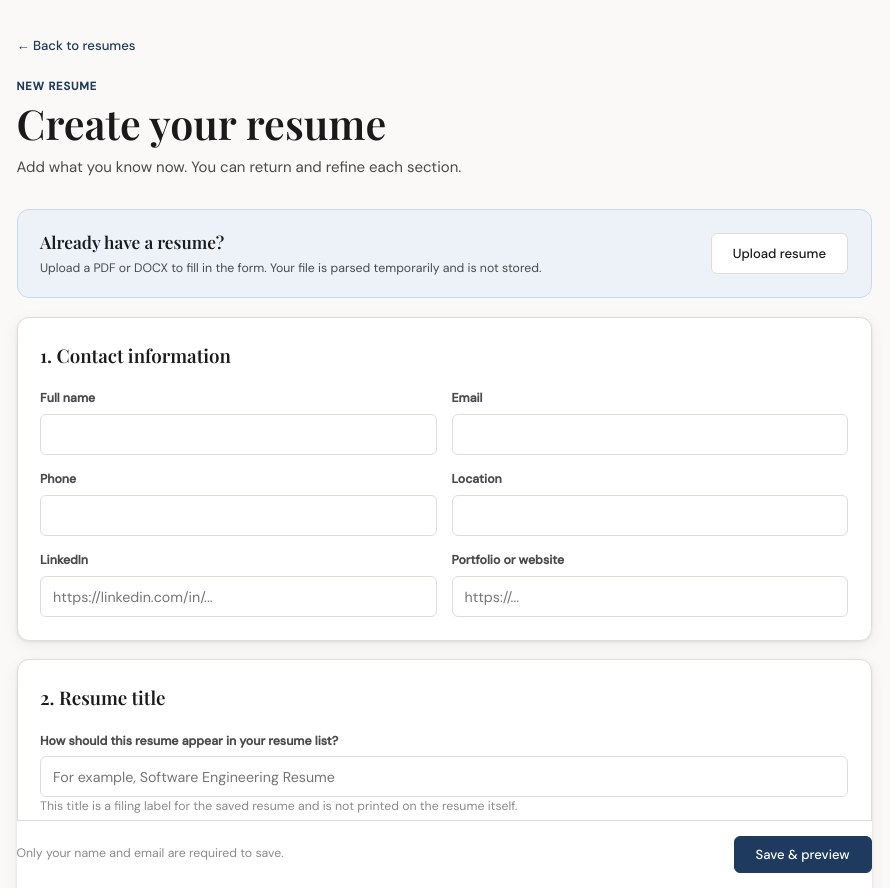
Test: ResumeBuilder › adds another work experience and saves entered details
The width and height of the screenshot is (890, 888).
Type "Jamie Rivera" into the field labelled "Full name" at (238, 435), box [40,414,436,455]
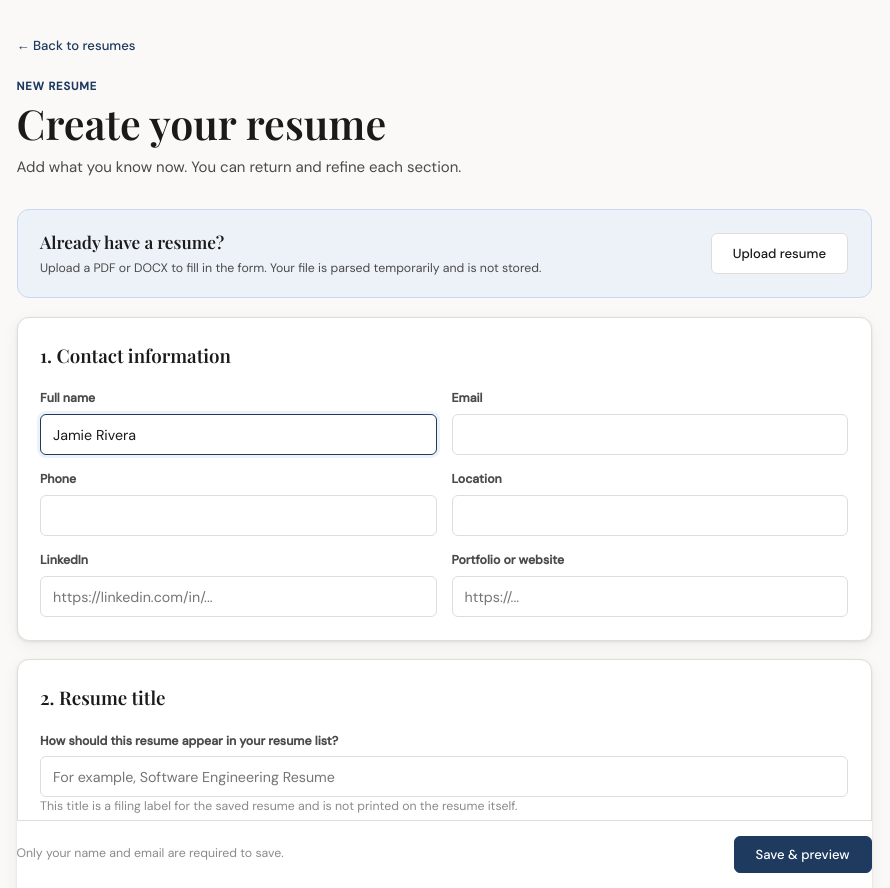
Type "jamie@example.com" into the field labelled "Email" at (650, 435), box [452,414,848,455]
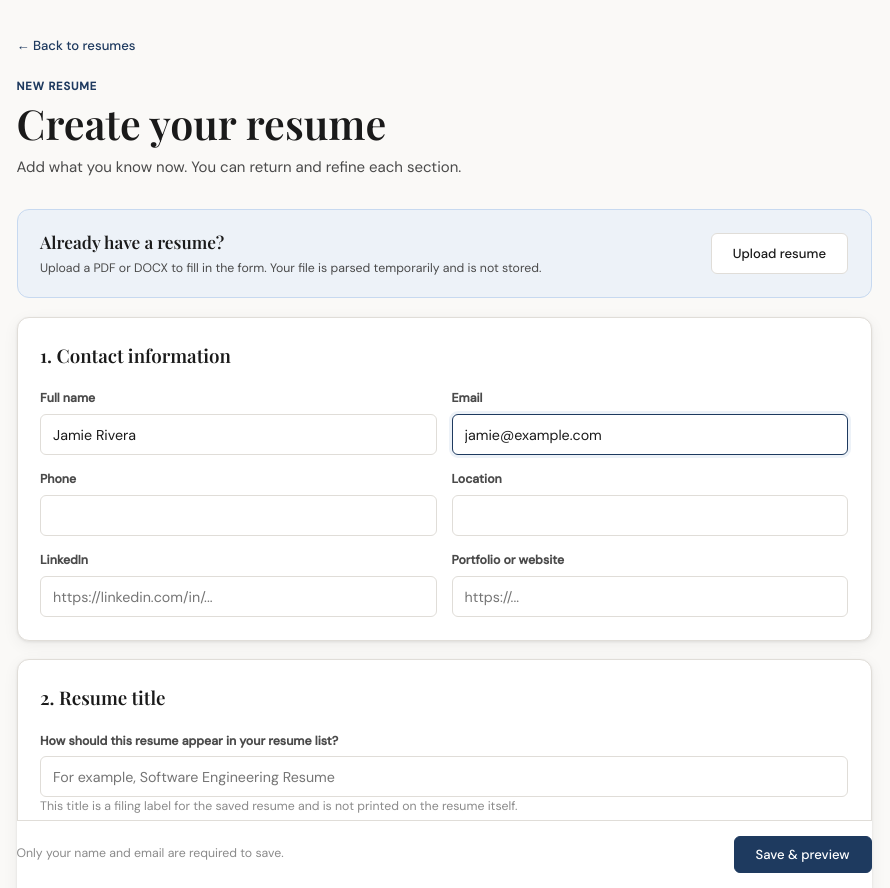
Type "Product Manager" into the field labelled "How should this resume appear in your resume list?" at (444, 777), box [40,756,848,798]
(page scrolled)
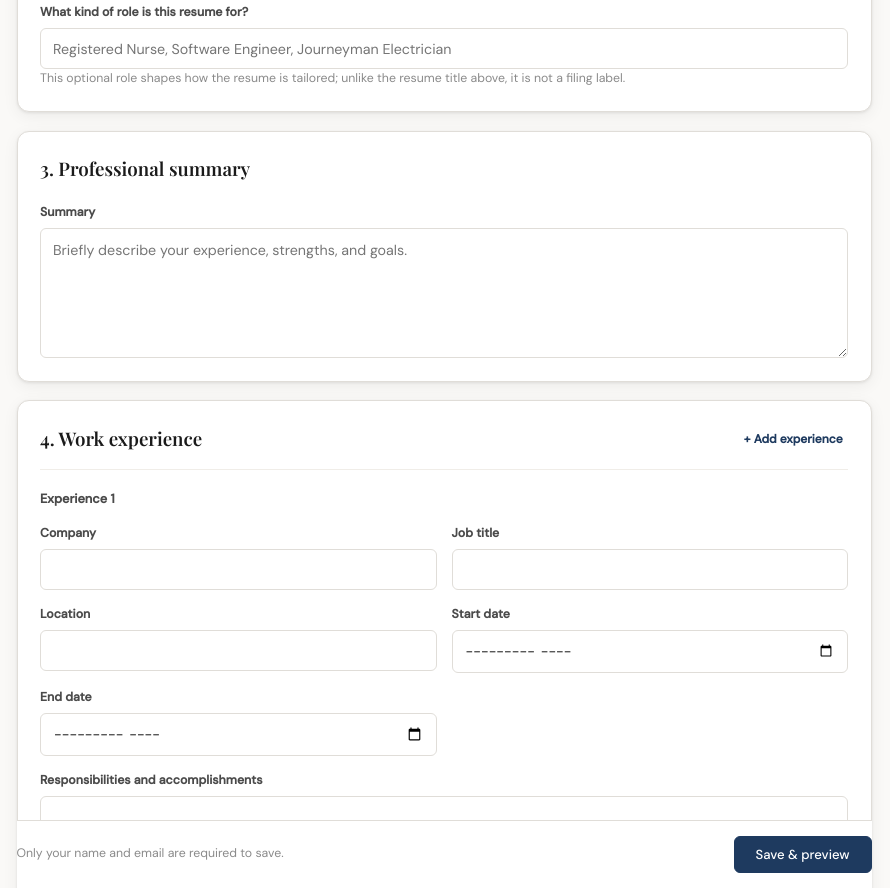
Click the button "+ Add experience" at (793, 439), box [739,426,848,452]
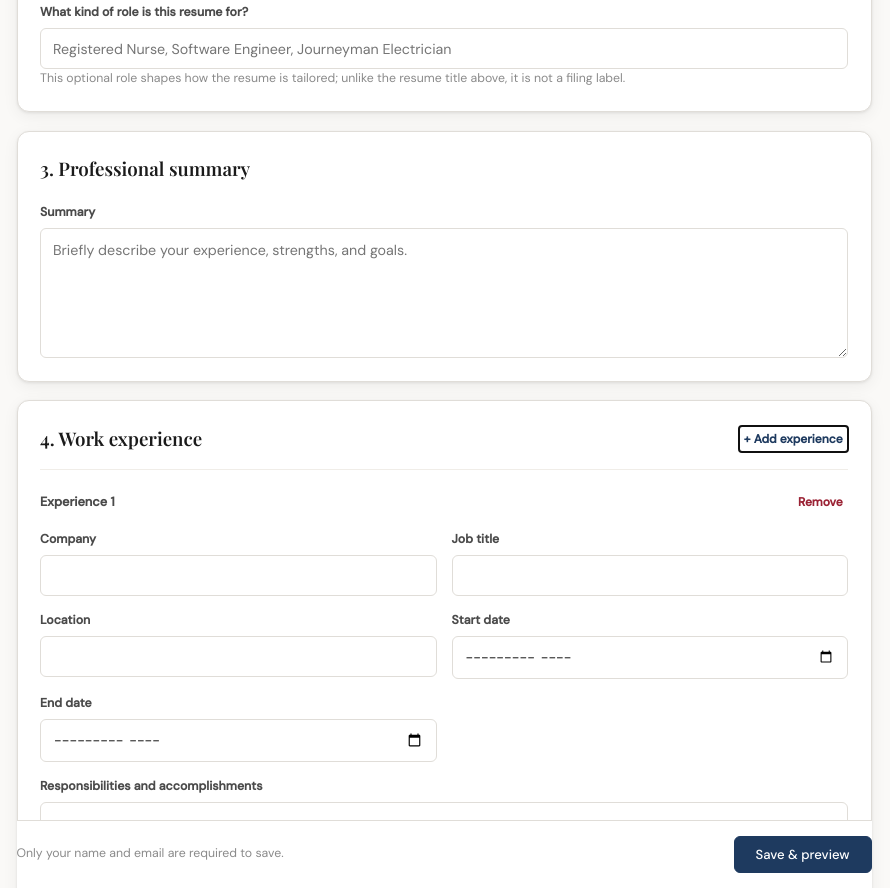
Click the button "Save & preview" at (802, 854), box [734,836,872,873]
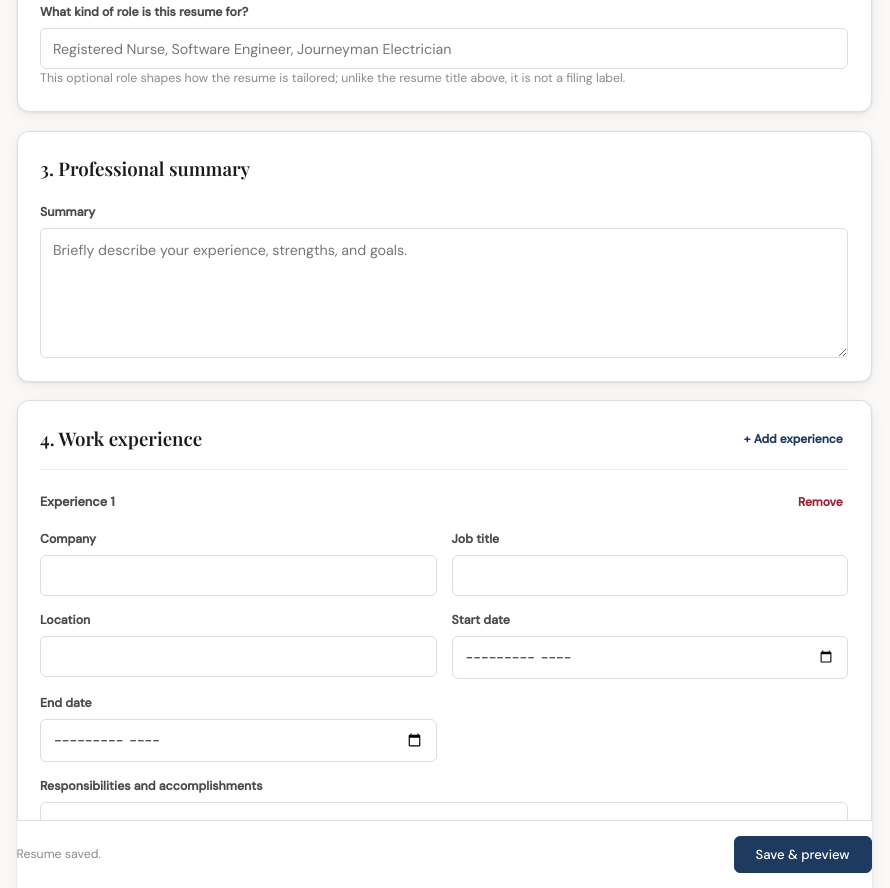
Expected: the text "Resume saved." is shown, [16,845,101,864]
